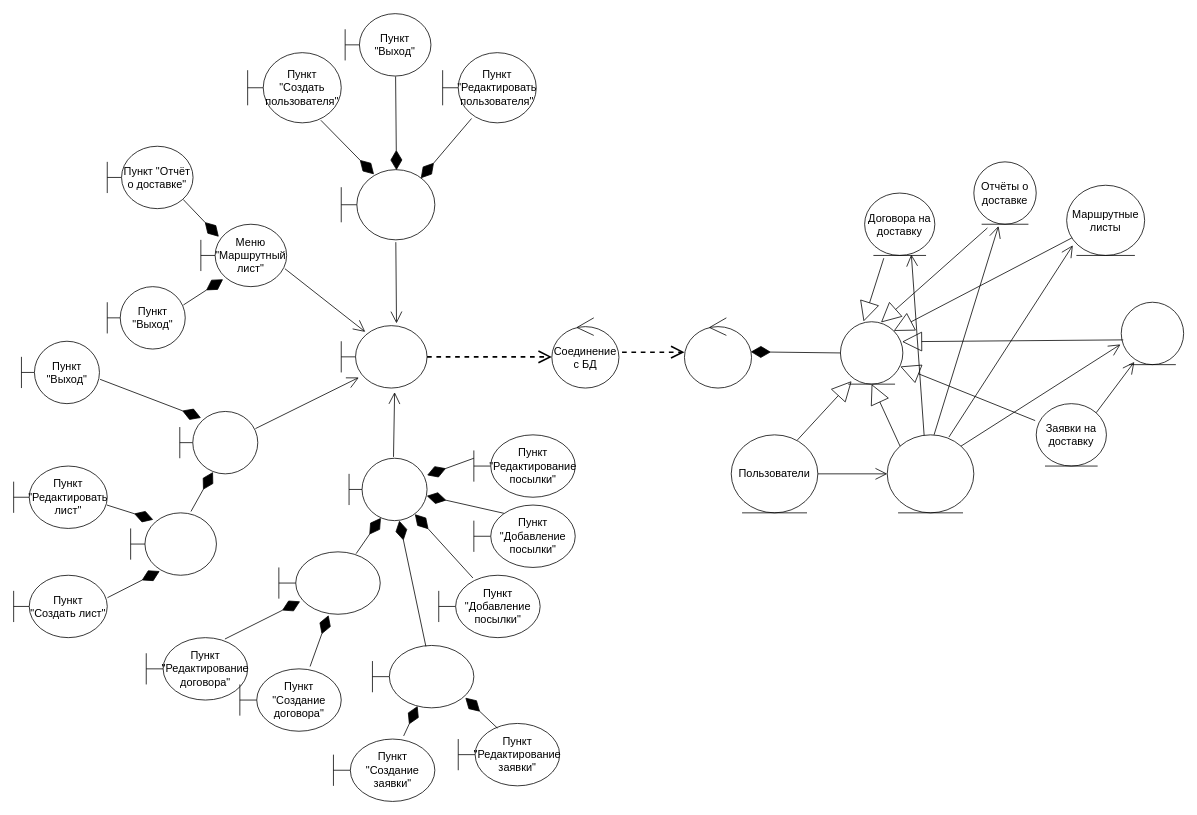
The diagram is 1197 pixels wide and 815 high, and some of its shapes have lost their labels. The shapes that lost their labels are listed below. From the top down, each one's box as (x1, y1, x2, y2) in pixels, then its label:
(340, 169, 435, 240): Меню "Пользователи"
(684, 317, 752, 388): БД
(840, 321, 903, 384): Таблица
(1120, 301, 1184, 365): Посылки
(340, 325, 427, 388): Авторизация
(179, 411, 258, 474): Меню "Заявки на доставку"
(348, 457, 427, 521): Меню менеджера
(886, 434, 974, 513): Права доступа
(130, 512, 216, 575): Пункт "Маршрутные листы"
(278, 551, 380, 614): Пункт "Договоры о доставке
(372, 645, 474, 708): Пункт "Заявки на доставку"
